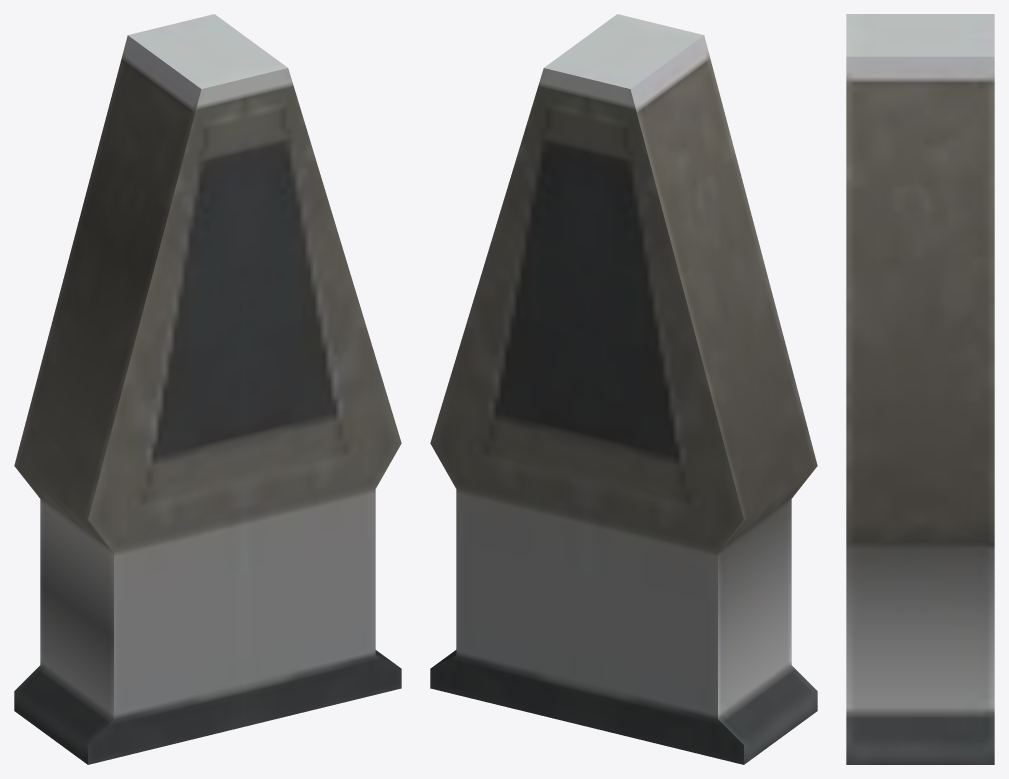
Rendered from Part - Pillar 02-CIOu3Mlk.glb.
3 views of the same model, side by side, from view 1: azimuth 30°, elevation 25°; view 2: azimuth 150°, elevation 25°; view 3: azimuth 270°, elevation 25° (orthographic).
Visible parts, largest first — view 1: Pillar_02; view 2: Pillar_02; view 3: Pillar_02.
Boxes of the visible parts, <box> form: Pillar_02: <box>14,14,401,764</box>; Pillar_02: <box>430,14,817,764</box>; Pillar_02: <box>846,14,994,764</box>.
Size of the model in its own units: 0.4397 by 0.8683 by 0.179.
1 material, 1 textured.
